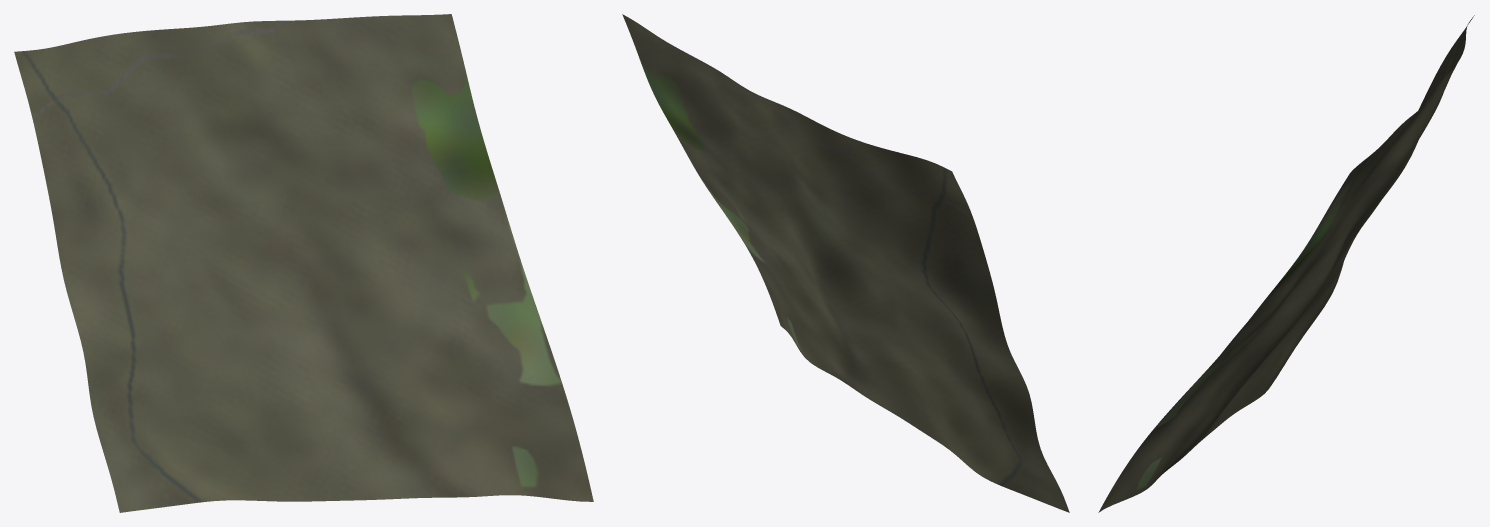
File: ground_mid_09_05.obj
3 views of the same model, side by side, from view 1: azimuth 30°, elevation 25°; view 2: azimuth 150°, elevation 25°; view 3: azimuth 270°, elevation 25° (orthographic). The views are drawn at different scales.
Parts seen in each view (by area): view 1: ground_mid_09_05; view 2: ground_mid_09_05; view 3: ground_mid_09_05.
Boxes of the visible parts, x1,y1,x2,y2 form: ground_mid_09_05: (14, 14, 593, 512); ground_mid_09_05: (622, 14, 1069, 512); ground_mid_09_05: (1098, 15, 1474, 512).
Size of the model in its own units: 200 by 200 by 201.
1 material, 1 textured.
